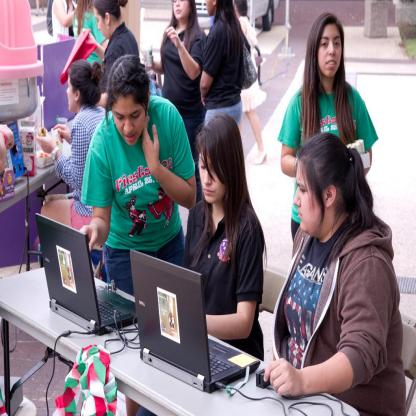board: (127, 207, 263, 393), (35, 214, 138, 338), (20, 121, 38, 178)
